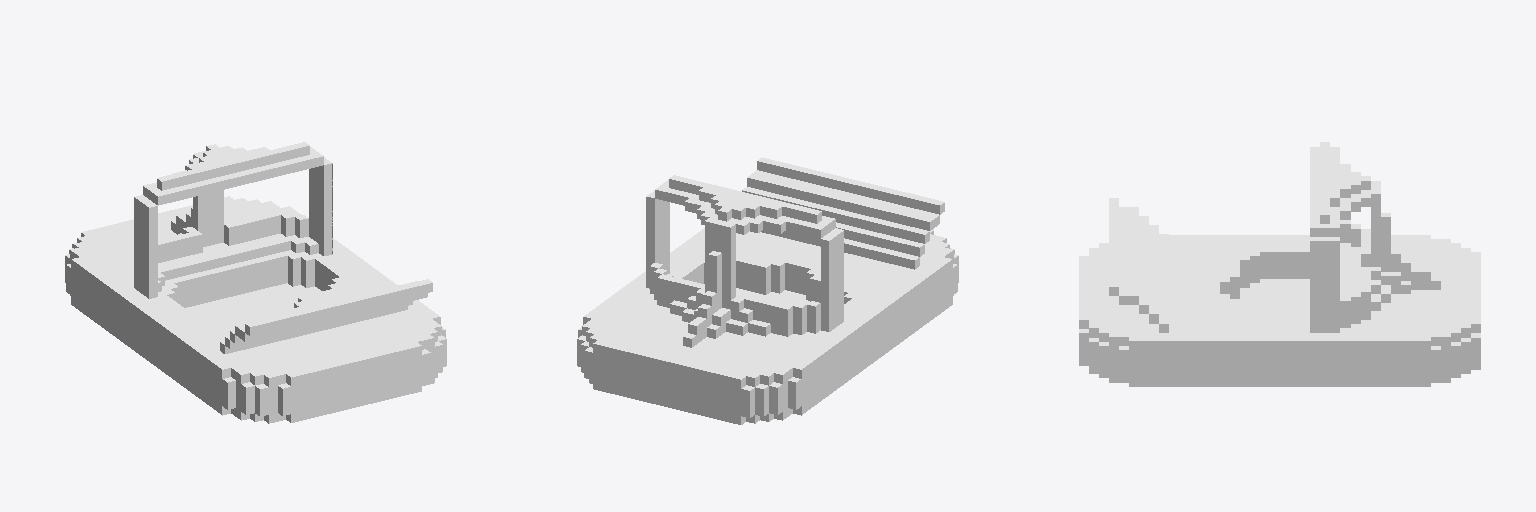
The model's file is Kart1.obj.
3 renders of one model, left to right at view 1: azimuth 30°, elevation 25°; view 2: azimuth 150°, elevation 25°; view 3: azimuth 270°, elevation 25°, orthographic.
Parts seen in each view (by area): view 1: object 1; view 2: object 1; view 3: object 1.
Boxes of the visible parts, <box> form: object 1: <box>65,142,446,423</box>; object 1: <box>577,157,958,424</box>; object 1: <box>1079,142,1480,386</box>.
Bounding box in the file's own units: 2.5 × 1.7 × 4.